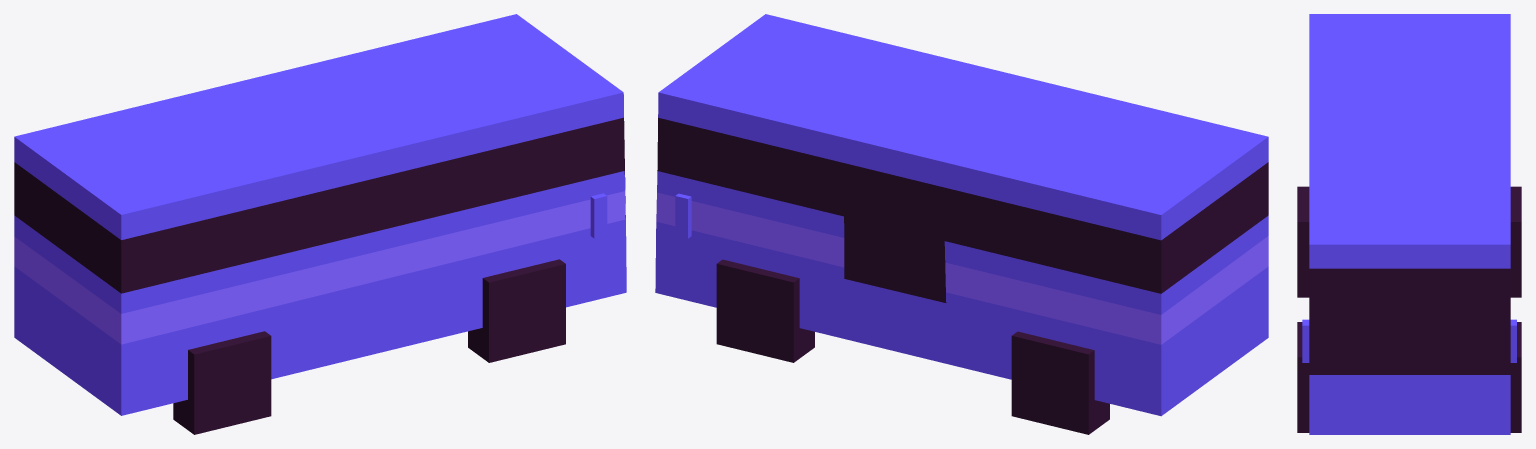
File: Bus_Spion_NoPlat.fbx
3 views of the same model, side by side, from view 1: azimuth 30°, elevation 25°; view 2: azimuth 150°, elevation 25°; view 3: azimuth 270°, elevation 25° (orthographic). The views are drawn at different scales.
Parts seen in each view (by area): view 1: Bus_Spion_NoPlat; view 2: Bus_Spion_NoPlat; view 3: Bus_Spion_NoPlat.
Boxes of the visible parts, box(x1,y1,x2,y2) form: Bus_Spion_NoPlat: box(14, 14, 626, 434); Bus_Spion_NoPlat: box(655, 14, 1268, 434); Bus_Spion_NoPlat: box(1297, 14, 1521, 434).
Bounding box in the file's own units: 1117 × 489 × 457.
